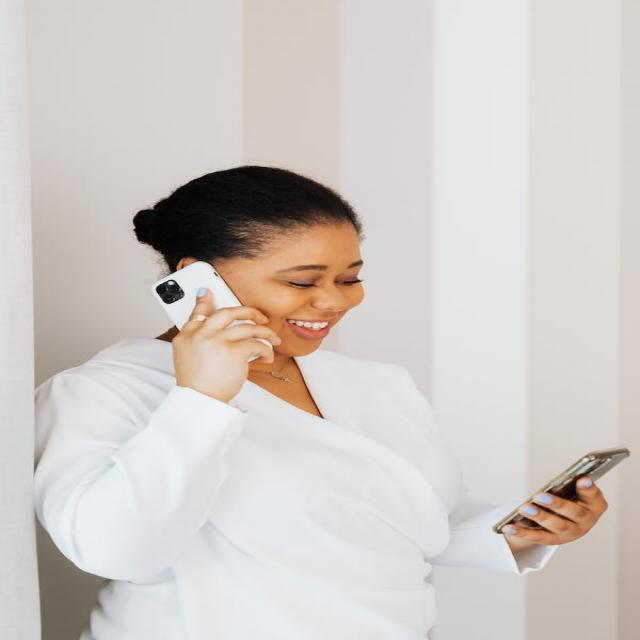phone: (150, 260, 272, 364), (492, 449, 633, 532)
